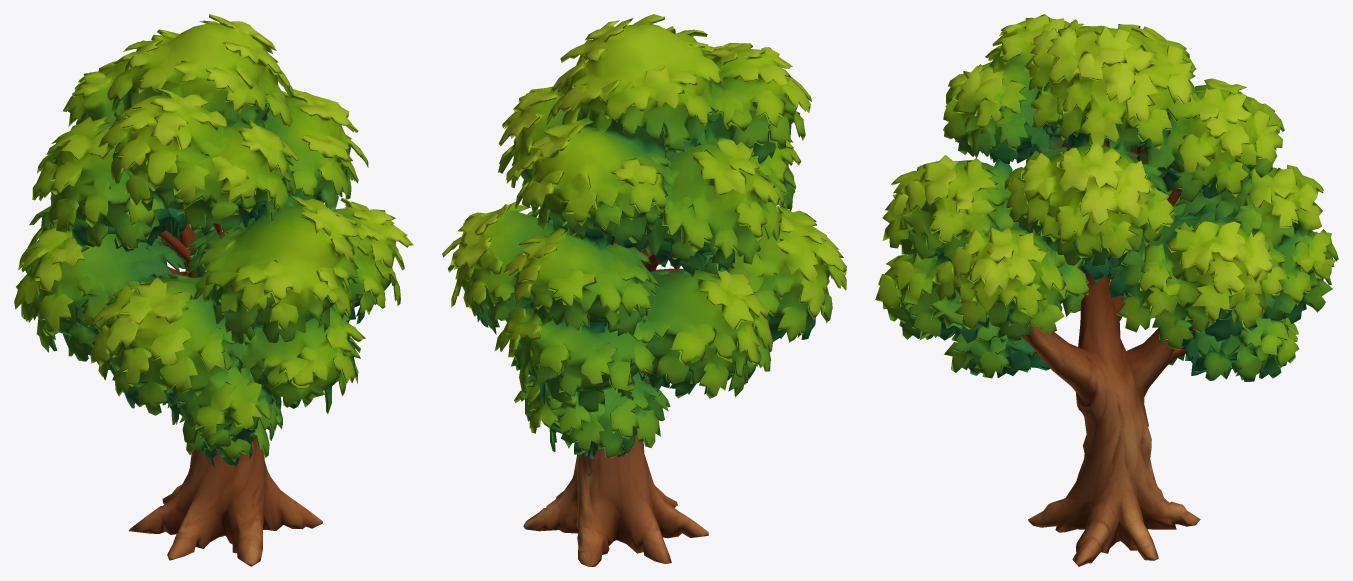
The model's file is maple.glb.
The picture shows the model from 3 angles, left to right: view 1: azimuth 30°, elevation 25°; view 2: azimuth 150°, elevation 25°; view 3: azimuth 270°, elevation 25°; orthographic projection. The views are drawn at different scales.
Visible parts, largest first — view 1: tripo_node_7e7fecec-cc8e-46b2-bf44-db71cd34e1b0; view 2: tripo_node_7e7fecec-cc8e-46b2-bf44-db71cd34e1b0; view 3: tripo_node_7e7fecec-cc8e-46b2-bf44-db71cd34e1b0.
Part boxes in pixels (<box>): tripo_node_7e7fecec-cc8e-46b2-bf44-db71cd34e1b0: <box>14,14,413,566</box>; tripo_node_7e7fecec-cc8e-46b2-bf44-db71cd34e1b0: <box>442,14,846,566</box>; tripo_node_7e7fecec-cc8e-46b2-bf44-db71cd34e1b0: <box>875,14,1338,566</box>.
Bounding box in the file's own units: 0.6089 × 1 × 0.8427.
1 material, 1 textured.
